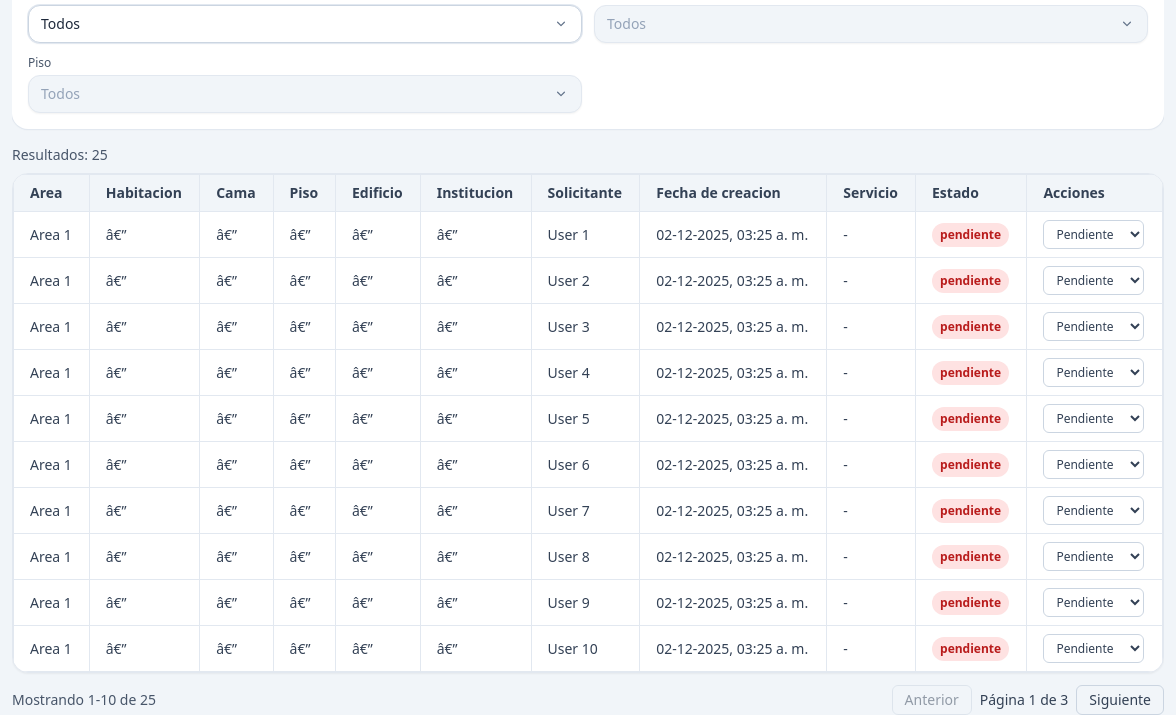
Test case: Solicitudes pagination › shows 10 items per page and navigates pages
(page scrolled)
Expected: the text "Página 1 de 3" is shown, [980,690,1068,710]
Expected: the text "User 1" is shown, [531,212,640,258]
Note: click Siguiente
Click the button "Siguiente". click: (1120, 700)
box: [1076,685,1164,714]
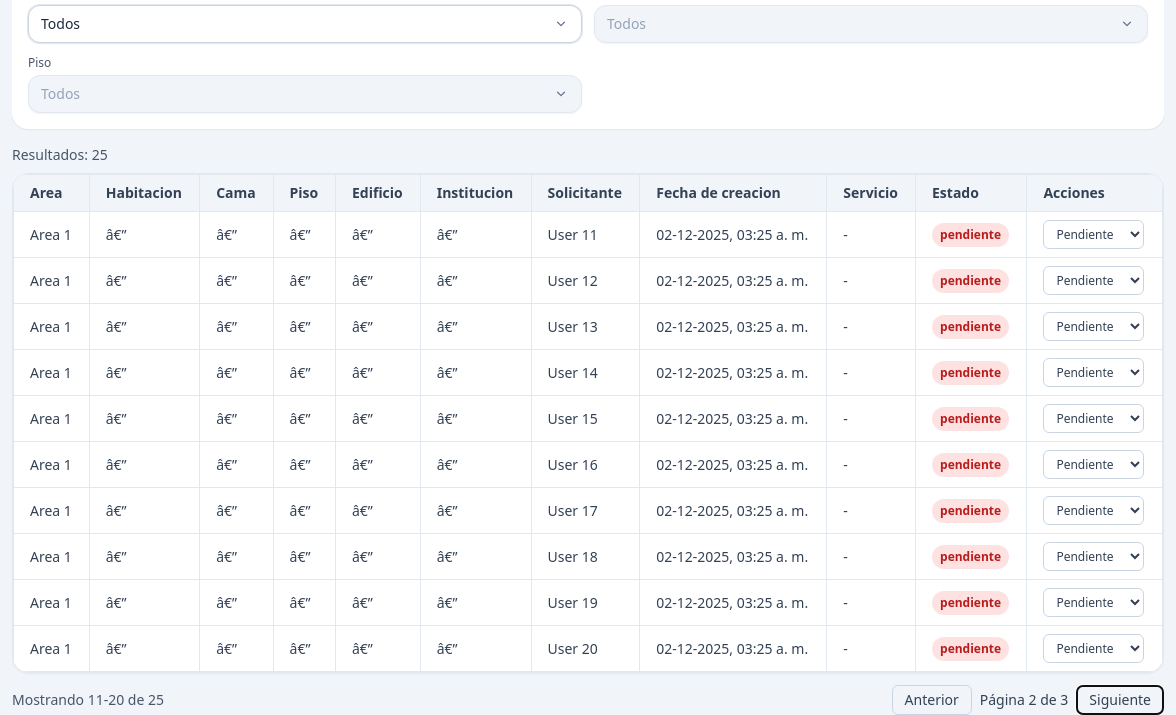
Expected: the text "Página 2 de 3" is shown, [980,690,1068,710]
Expected: the text "User 11" is shown, [531,212,640,258]
Note: click Siguiente again to page 3
Click the button "Siguiente". click: (1120, 700)
box: [1076,685,1164,714]
(page scrolled)
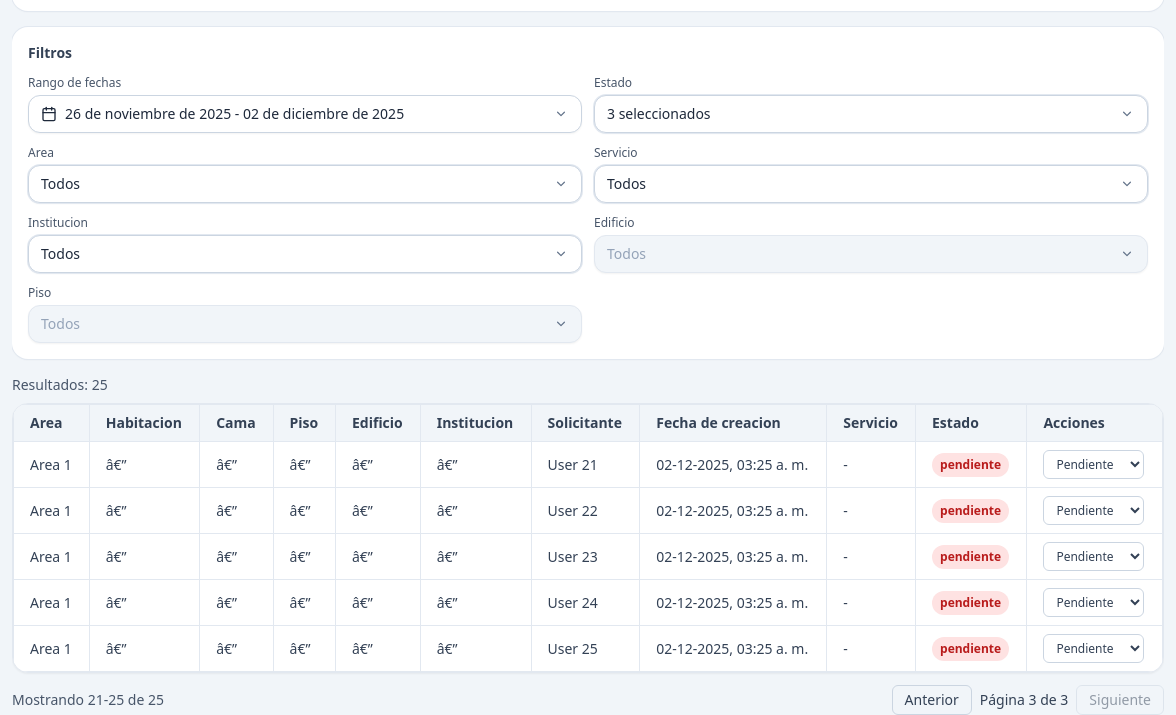
Expected: the text "Página 3 de 3" is shown, [980,690,1068,710]
Expected: the text "User 25" is shown, [531,626,640,672]
